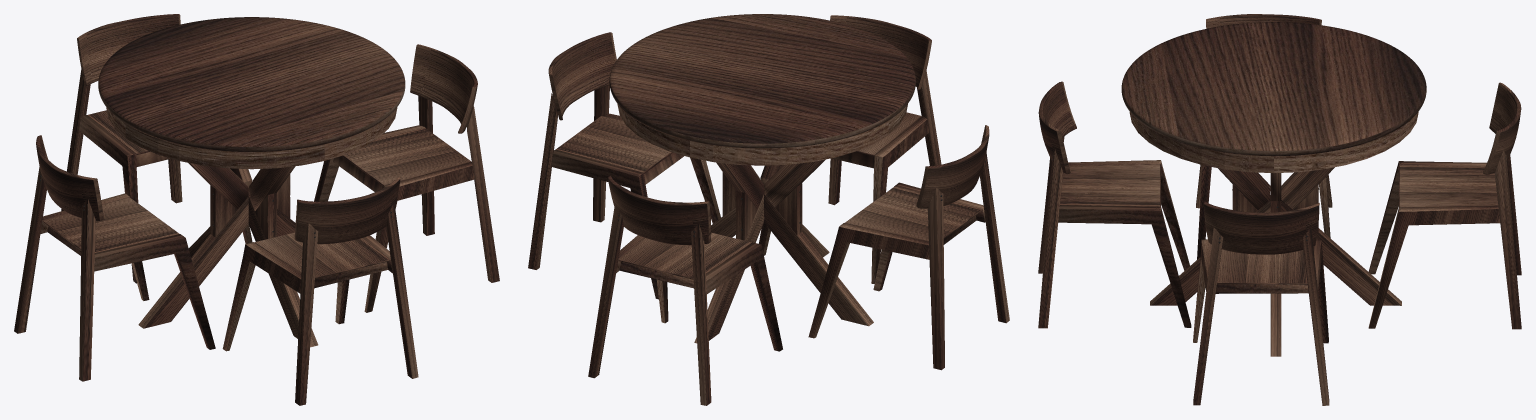
The model's file is 4seated_dinning_table.obj.
The picture shows the model from 3 angles, left to right: view 1: azimuth 30°, elevation 25°; view 2: azimuth 150°, elevation 25°; view 3: azimuth 270°, elevation 25°; orthographic projection.
Visible parts, largest first — view 1: Cylinder, Cylinder.001, Cube.021_Cube.006, Sphere.003, Cube.045_Cube.029, Sphere.005, Cube.006_Cube.016, Cube.041_Cube.022, Cube.029_Cube.043, Cube.032_Cube.046, Sphere.001, Cube.039_Cube.009 (+21 smaller); view 2: Cylinder, Cylinder.001, Sphere.001, Cube.045_Cube.029, Sphere.005, Cube.021_Cube.006, Cube.042_Cube.023, Cube.006_Cube.016, Cube.011_Cube.000, Cube.043_Cube.025, Sphere.006, Cube.020_Cube.004 (+21 smaller); view 3: Cylinder, Cylinder.001, Sphere.005, Cube.032_Cube.046, Cube.011_Cube.000, Cube.028_Cube.042, Cube.019_Cube.003, Cube.021_Cube.006, Cube.009_Cube.011, Cube.016_Cube.002, Sphere.003, Cube.031_Cube.045 (+15 smaller).
Part boxes in pixels (<box>): Cylinder: <box>98,17,405,151</box>; Cylinder.001: <box>106,107,397,169</box>; Cube.021_Cube.006: <box>342,128,470,186</box>; Sphere.003: <box>294,176,400,244</box>; Cube.045_Cube.029: <box>43,197,179,252</box>; Sphere.005: <box>410,44,477,133</box>; Cube.006_Cube.016: <box>138,196,248,328</box>; Cube.041_Cube.022: <box>94,234,215,349</box>; Cube.029_Cube.043: <box>222,242,387,351</box>; Cube.032_Cube.046: <box>254,232,389,278</box>; Sphere.001: <box>77,14,180,86</box>; Cube.039_Cube.009: <box>333,156,474,312</box>; Cylinder: <box>609,14,915,148</box>; Cylinder.001: <box>617,104,907,165</box>; Sphere.001: <box>607,176,711,245</box>; Cube.045_Cube.029: <box>844,186,982,241</box>; Sphere.005: <box>548,32,616,120</box>; Cube.021_Cube.006: <box>556,116,672,173</box>; Cube.042_Cube.023: <box>808,215,976,338</box>; Cube.006_Cube.016: <box>764,194,873,326</box>; Cube.011_Cube.000: <box>618,232,751,279</box>; Cube.043_Cube.025: <box>927,187,944,370</box>; Sphere.006: <box>916,125,989,208</box>; Cube.020_Cube.004: <box>706,242,782,351</box>; Cylinder: <box>1121,22,1426,156</box>; Cylinder.001: <box>1129,111,1418,173</box>; Sphere.005: <box>1203,201,1319,254</box>; Cube.032_Cube.046: <box>1060,164,1160,206</box>; Cube.011_Cube.000: <box>1399,165,1498,207</box>; Cube.028_Cube.042: <box>1058,205,1191,327</box>; Cube.019_Cube.003: <box>1368,205,1500,328</box>; Cube.021_Cube.006: <box>1217,249,1307,284</box>; Cube.009_Cube.011: <box>1281,200,1401,305</box>; Cube.016_Cube.002: <box>1494,150,1521,329</box>; Sphere.003: <box>1038,81,1076,174</box>; Cube.031_Cube.045: <box>1038,149,1062,328</box>.
Size of the model in its own units: 67.59 by 34.58 by 68.48.
3 materials, 3 textured.
